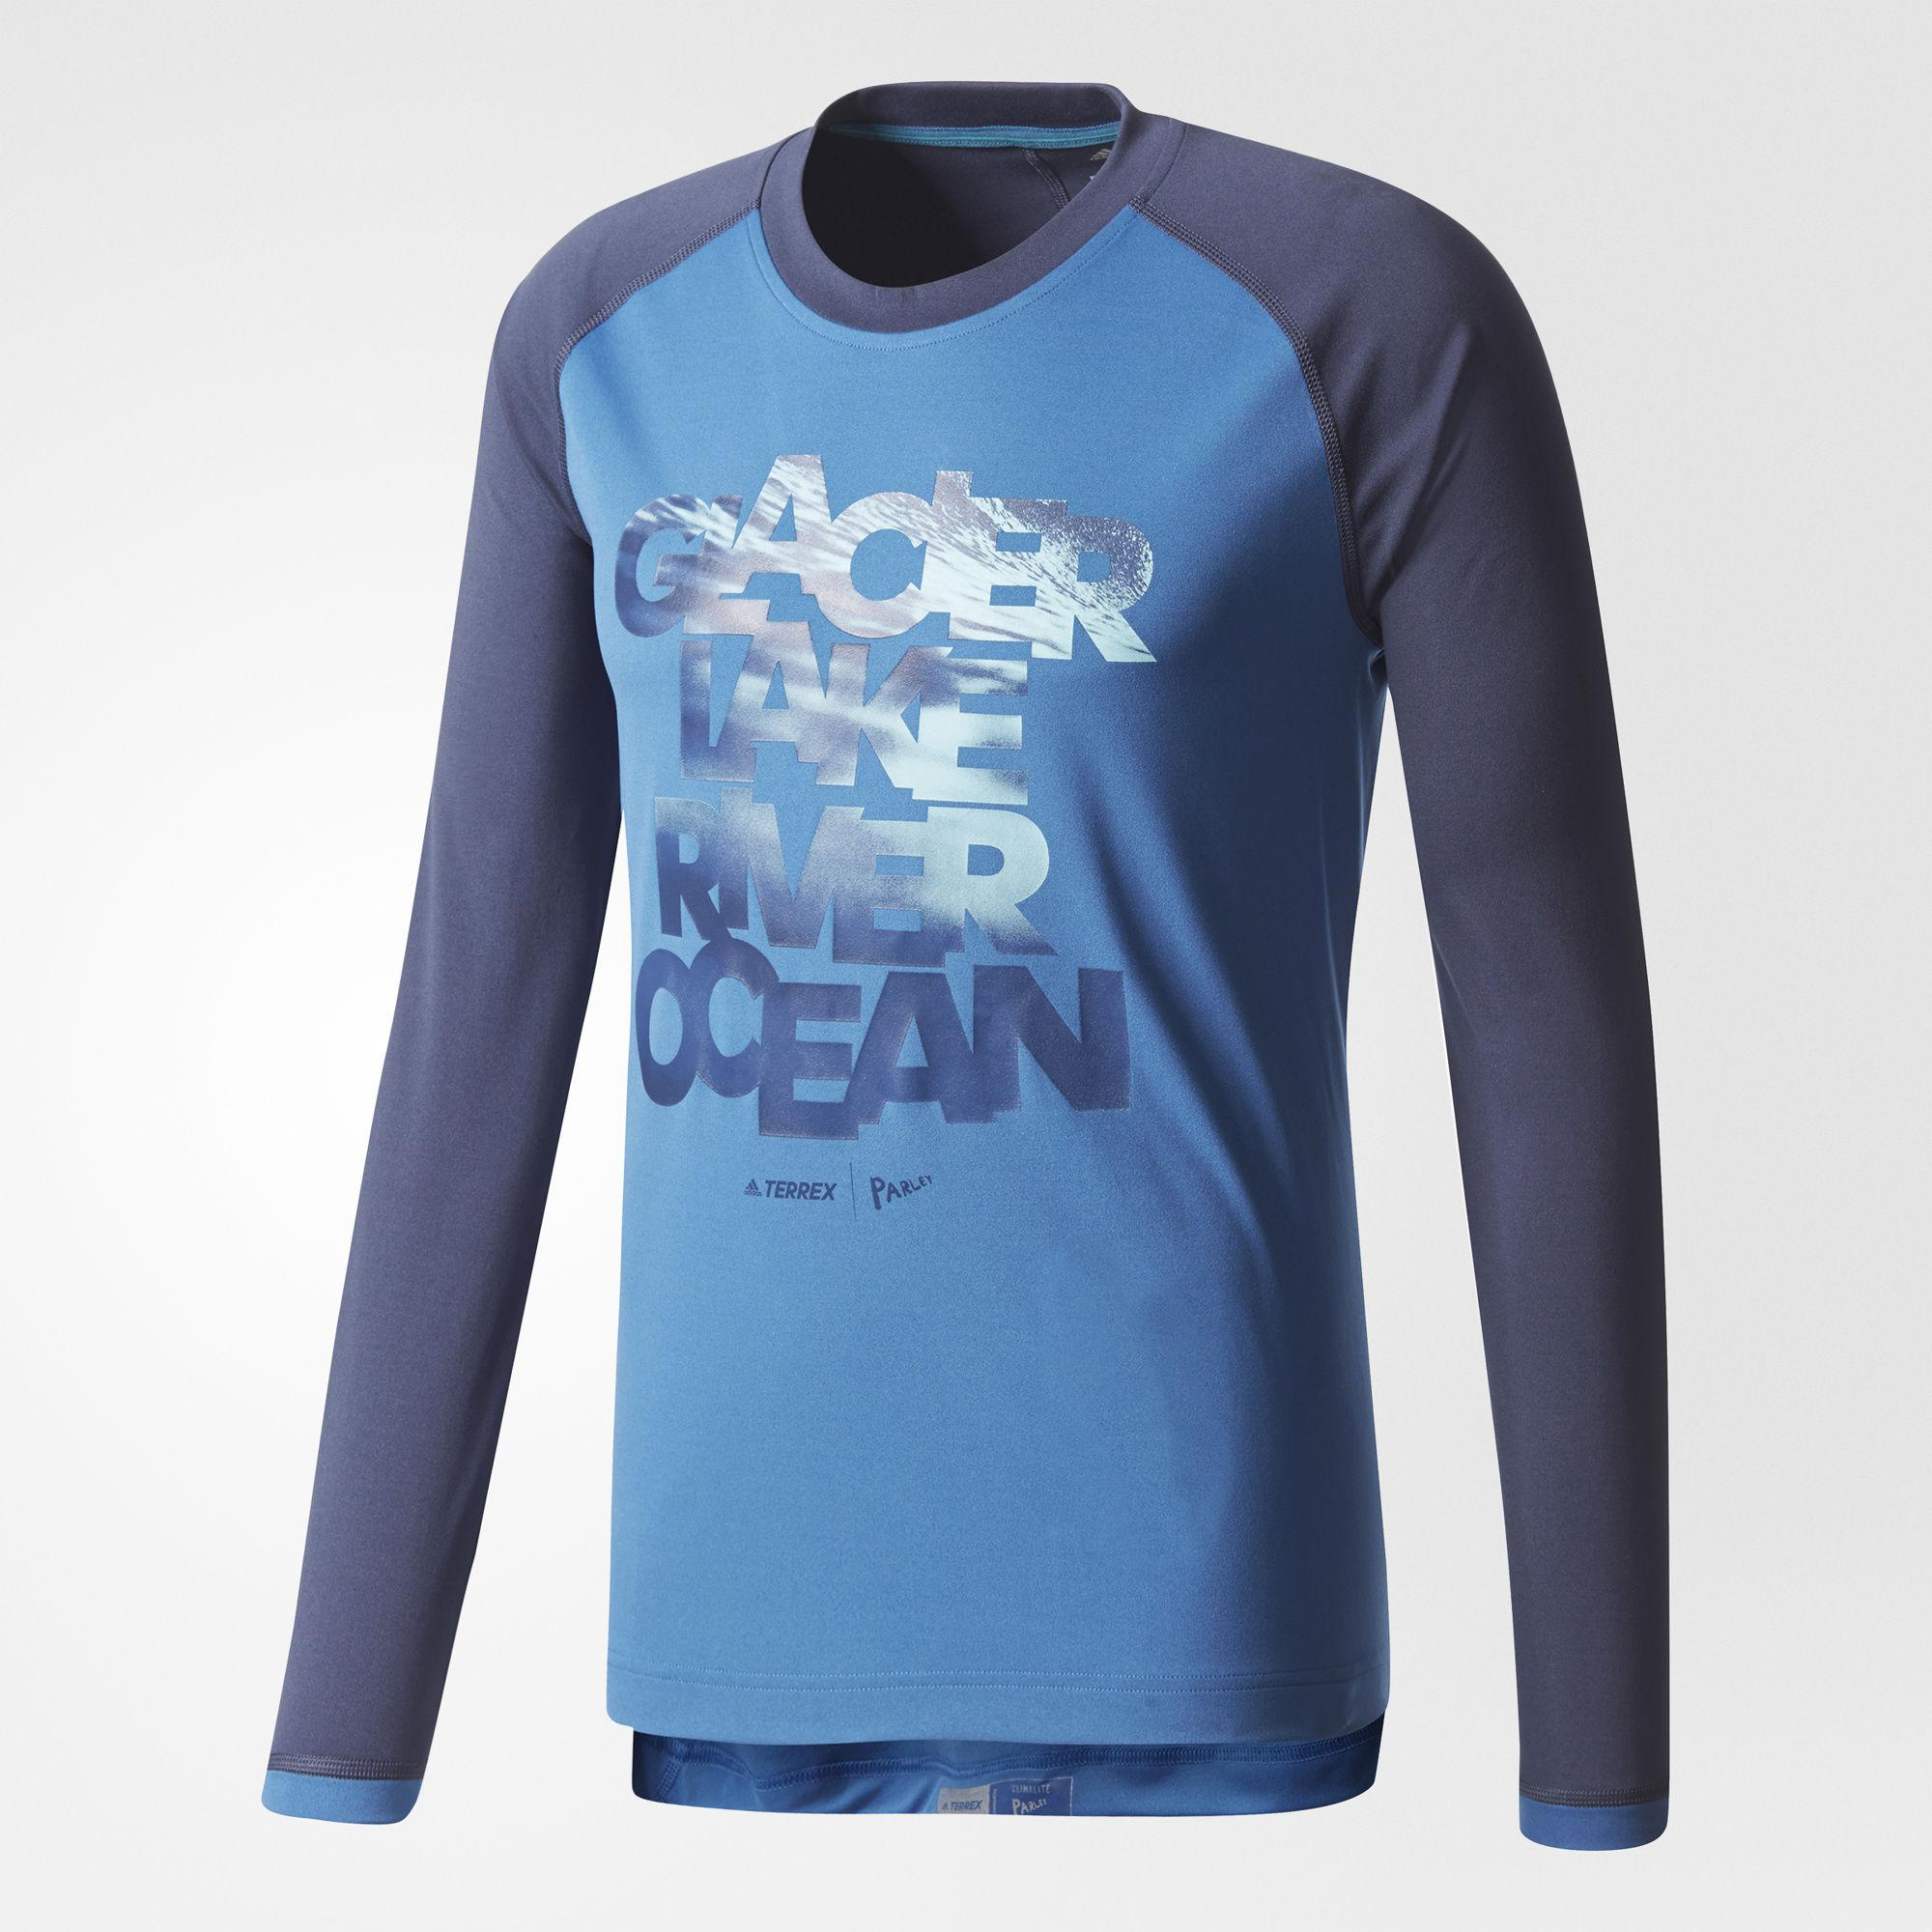teeshirt: (200, 67, 1672, 1932)
